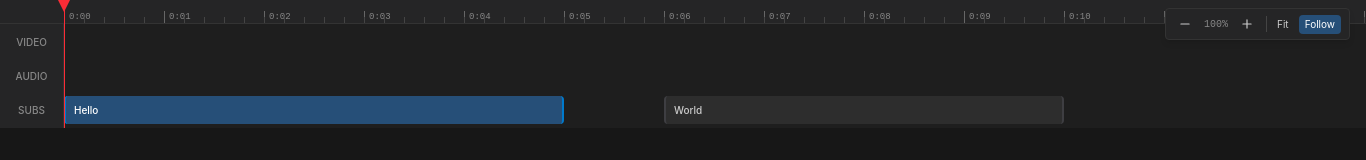
Test: SubtitleTimeline › Zoom and Navigation › handles zoom interaction with buttons
Expected: the text "100%" is shown, [1204, 18, 1228, 30]
Click the button titled "Zoom In (+)" at (1247, 24), box [1236, 13, 1258, 35]
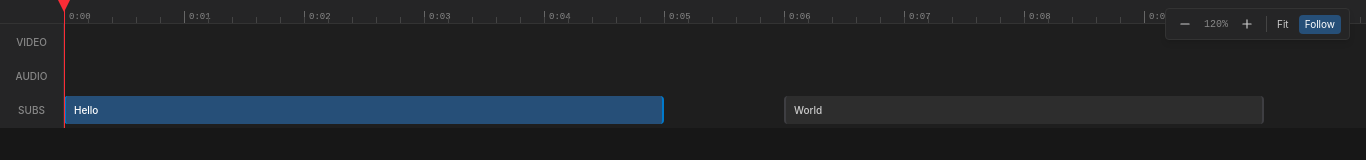
Expected: the text "120%" is shown, [1204, 18, 1228, 30]
Click the button titled "Zoom Out (-)" at (1185, 24), box [1174, 13, 1196, 35]
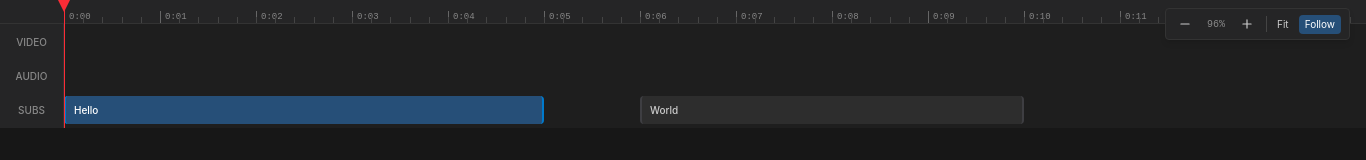
Expected: the text "96%" is shown, [1207, 18, 1225, 30]
